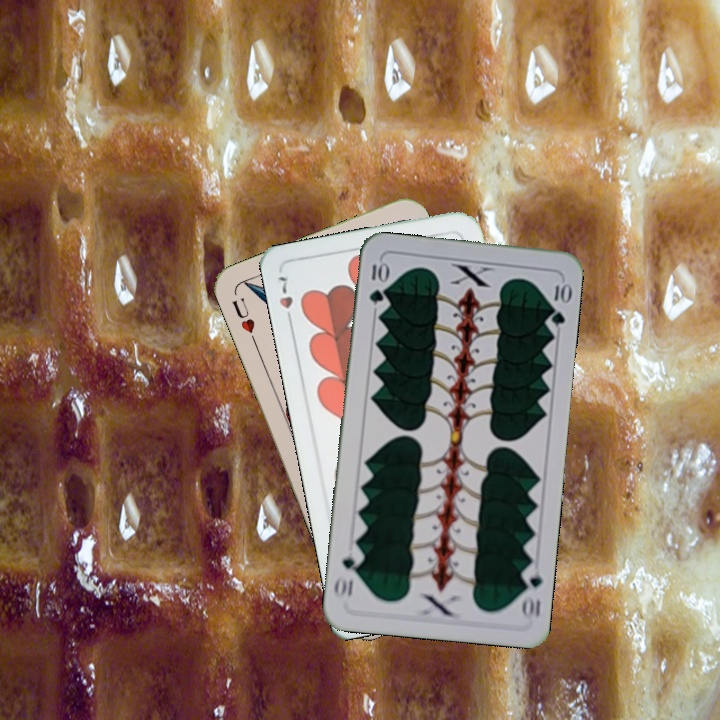G10: (517, 562, 545, 622), (365, 257, 389, 307)
H7: (274, 272, 296, 328)
HU: (228, 293, 259, 346)
